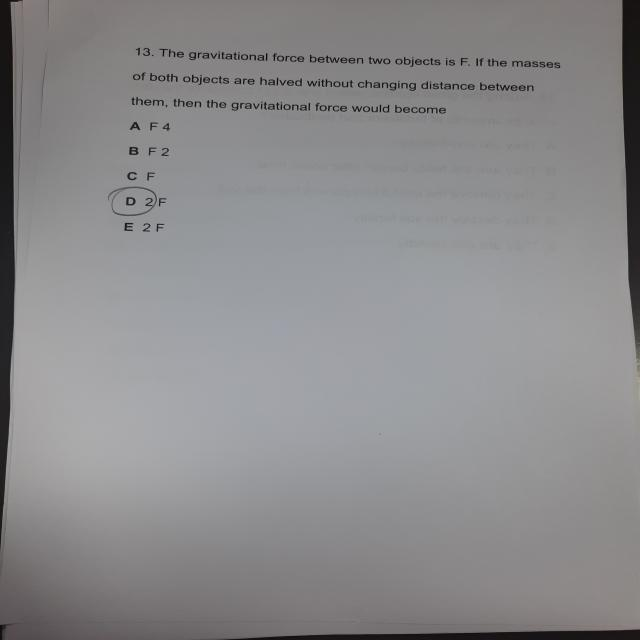D: (105, 187, 165, 219)
